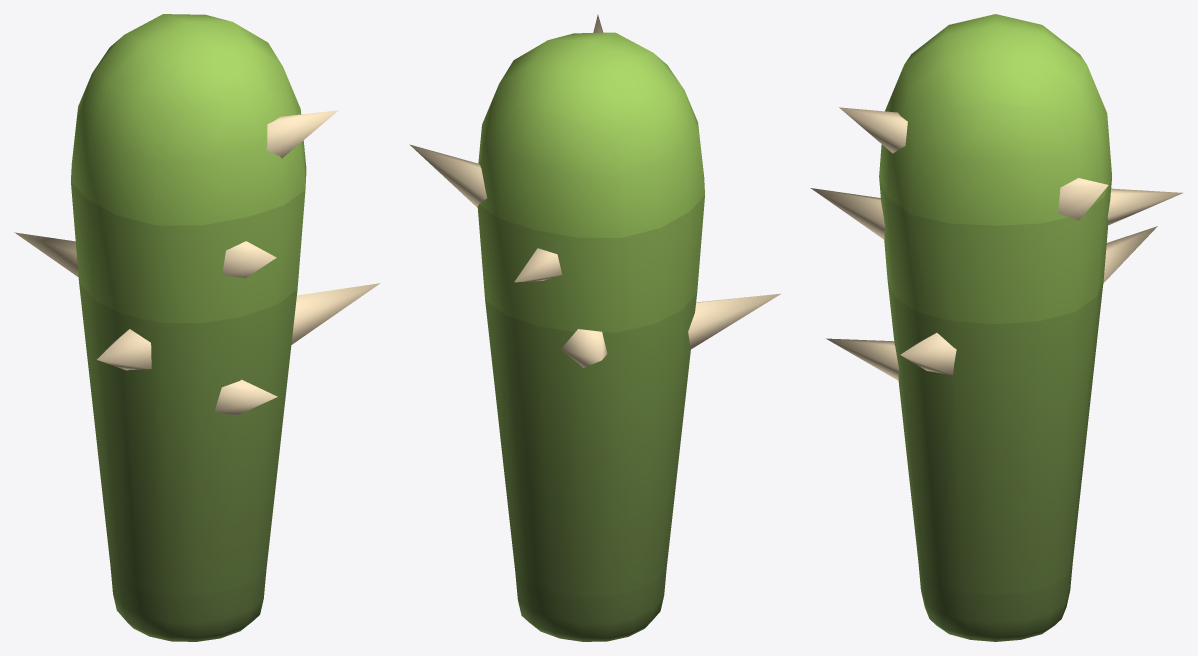
The model's file is cactus_1.fbx.
3 renders of one model, left to right at view 1: azimuth 30°, elevation 25°; view 2: azimuth 150°, elevation 25°; view 3: azimuth 270°, elevation 25°, orthographic. The views are drawn at different scales.
Parts seen in each view (by area): view 1: cactus_1; view 2: cactus_1; view 3: cactus_1.
Boxes of the visible parts, box(x1,y1,x2,y2) form: cactus_1: box(14, 14, 380, 641); cactus_1: box(409, 14, 780, 641); cactus_1: box(810, 14, 1182, 641).
Size of the model in its own units: 77.01 by 153 by 86.8.
Materials: 1 (1 with a texture image).
